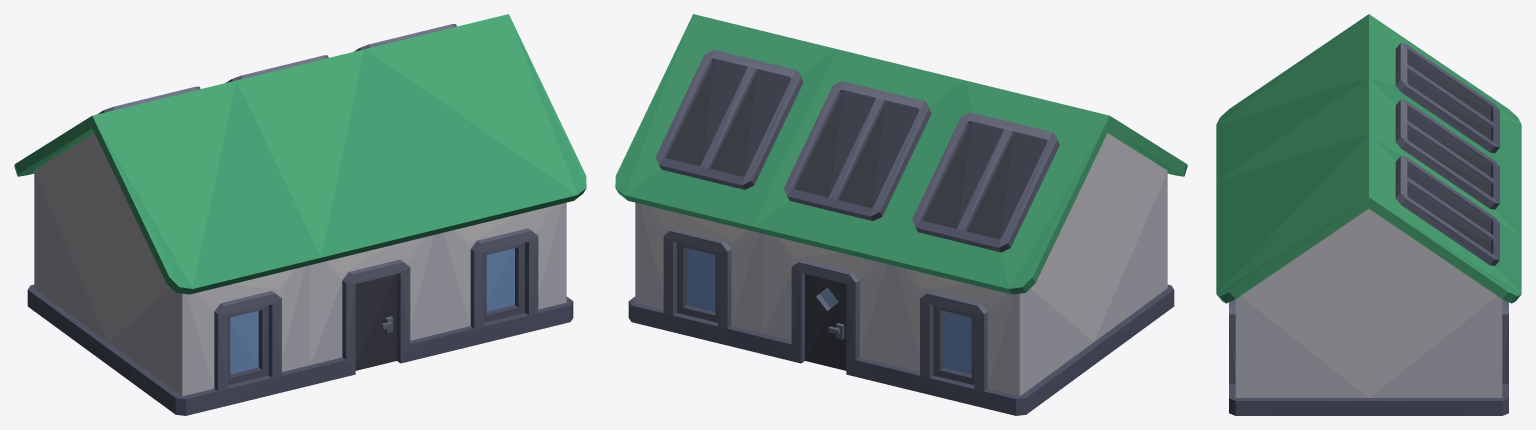
Rendered from house_h.glb.
3 views of the same model, side by side, from view 1: azimuth 30°, elevation 25°; view 2: azimuth 150°, elevation 25°; view 3: azimuth 270°, elevation 25° (orthographic). The views are drawn at different scales.
Parts seen in each view (by area): view 1: house_h; view 2: house_h; view 3: house_h.
Boxes of the visible parts, <box> form: house_h: <box>14,14,586,415</box>; house_h: <box>615,14,1187,415</box>; house_h: <box>1216,14,1521,415</box>.
Size of the model in its own units: 1.3 by 0.7375 by 0.916.
